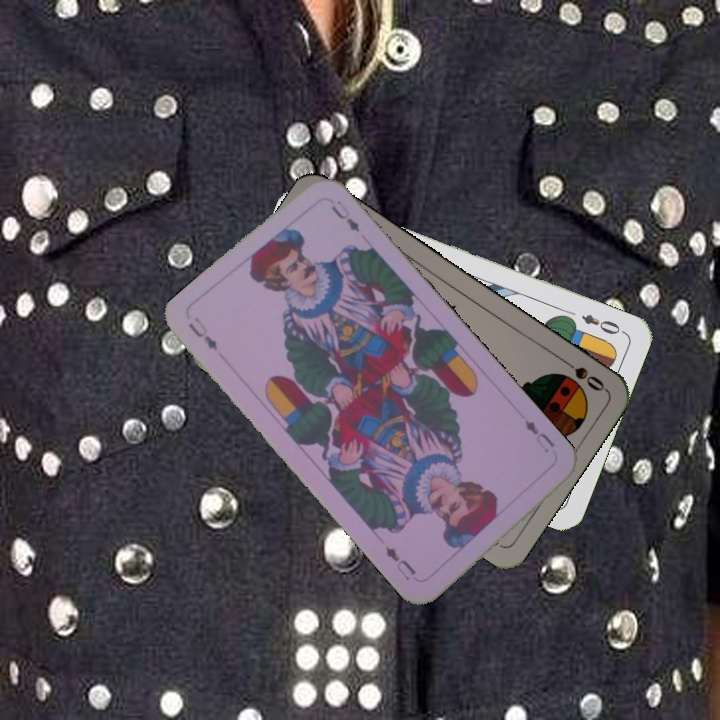EO: (577, 310, 628, 337)
EU: (184, 312, 221, 354), (520, 415, 558, 452)
SO: (556, 353, 607, 394)
